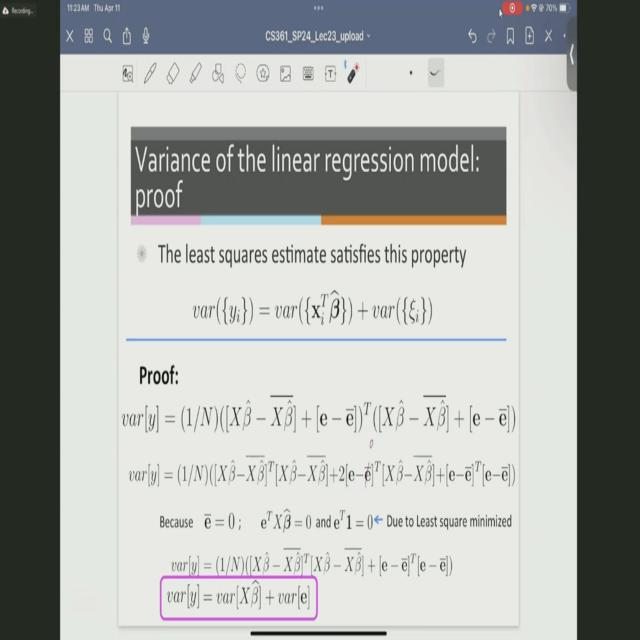equations: (120, 387, 516, 439), (122, 448, 518, 498), (187, 279, 441, 333), (170, 542, 454, 581), (162, 578, 314, 618), (258, 502, 312, 538), (200, 505, 244, 536), (332, 504, 374, 536)
